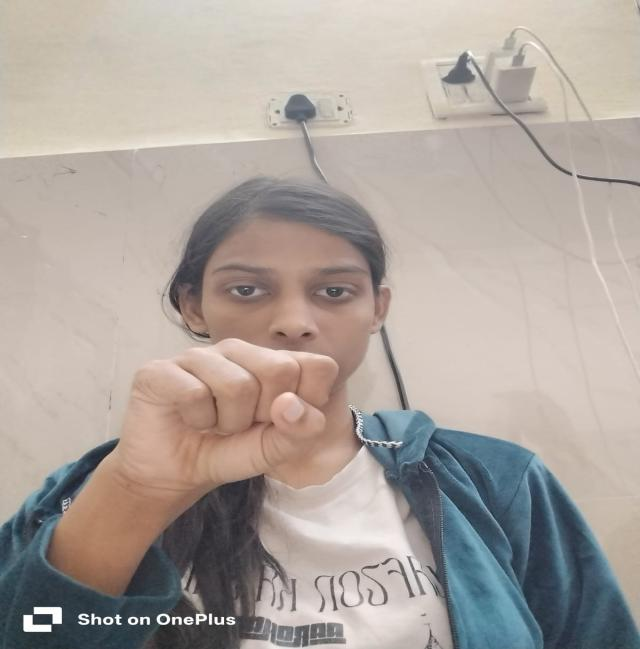Yes: (96, 329, 350, 515)
